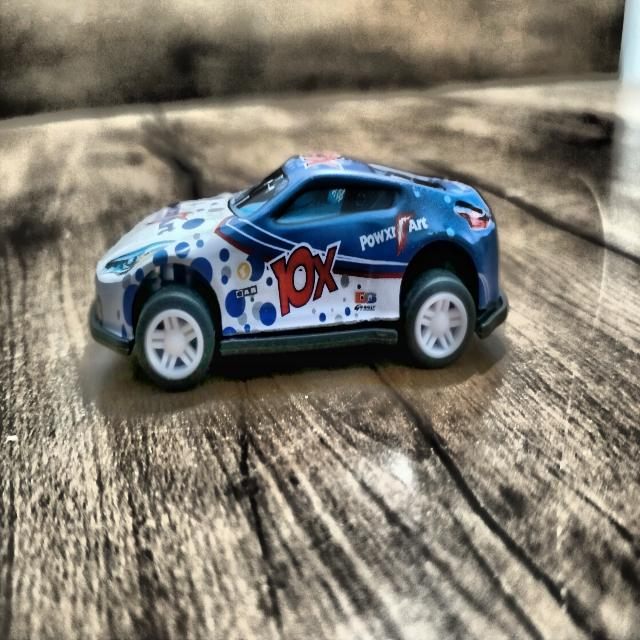Car: (75, 150, 520, 416)
